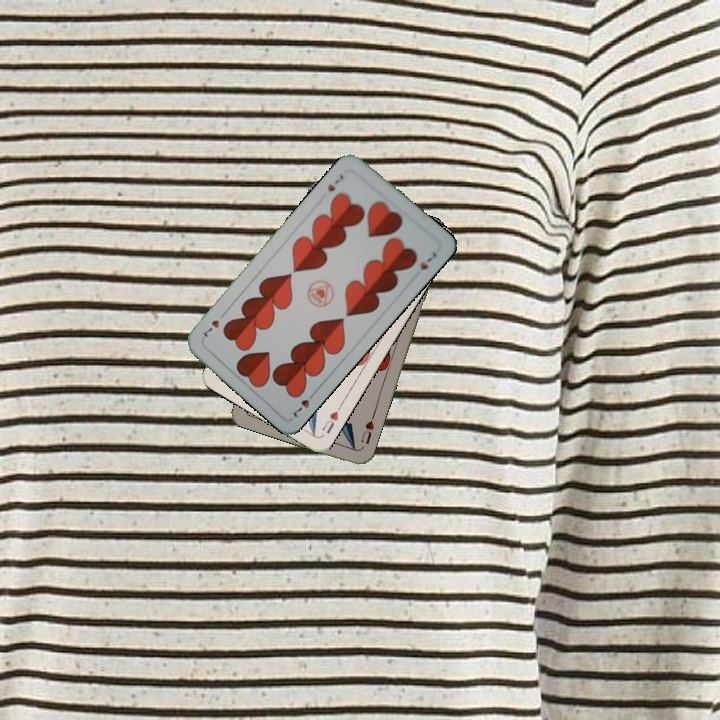H7: (289, 387, 319, 420), (324, 169, 346, 194)
HU: (318, 401, 344, 436), (357, 411, 377, 447)
